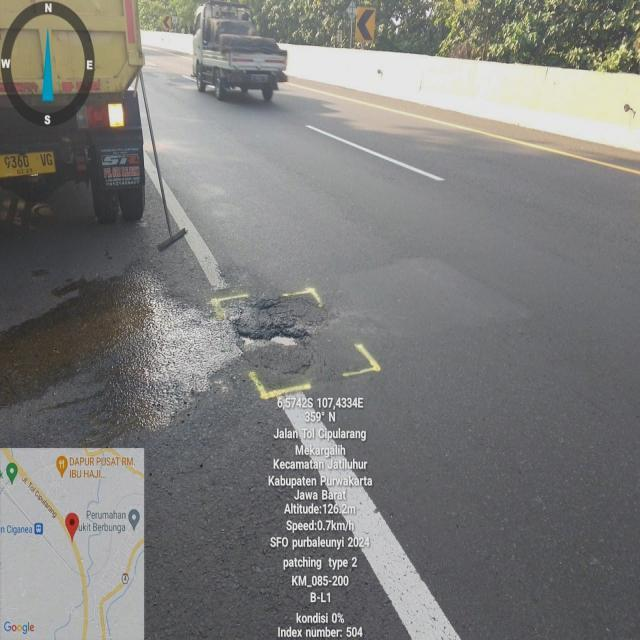Buraco: (229, 318, 314, 350)
